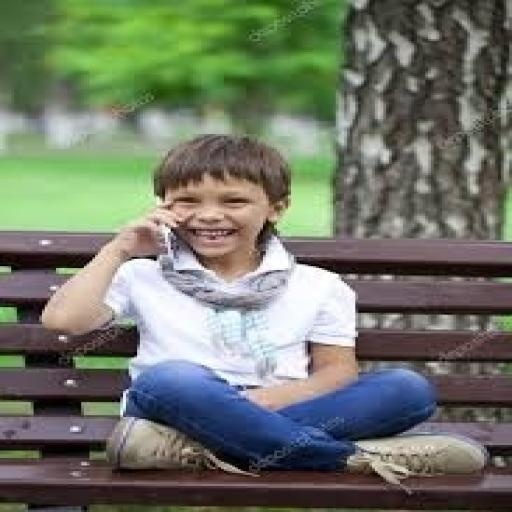calling: (36, 130, 492, 484)
